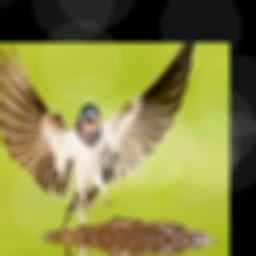Swallow: (0, 42, 195, 228)
